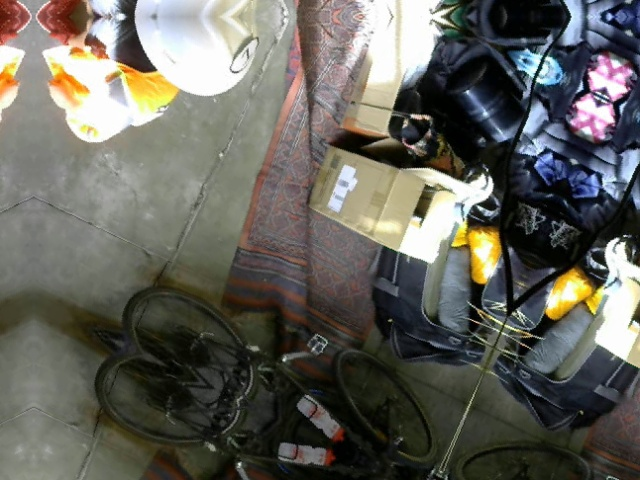one: (226, 31, 259, 79)
